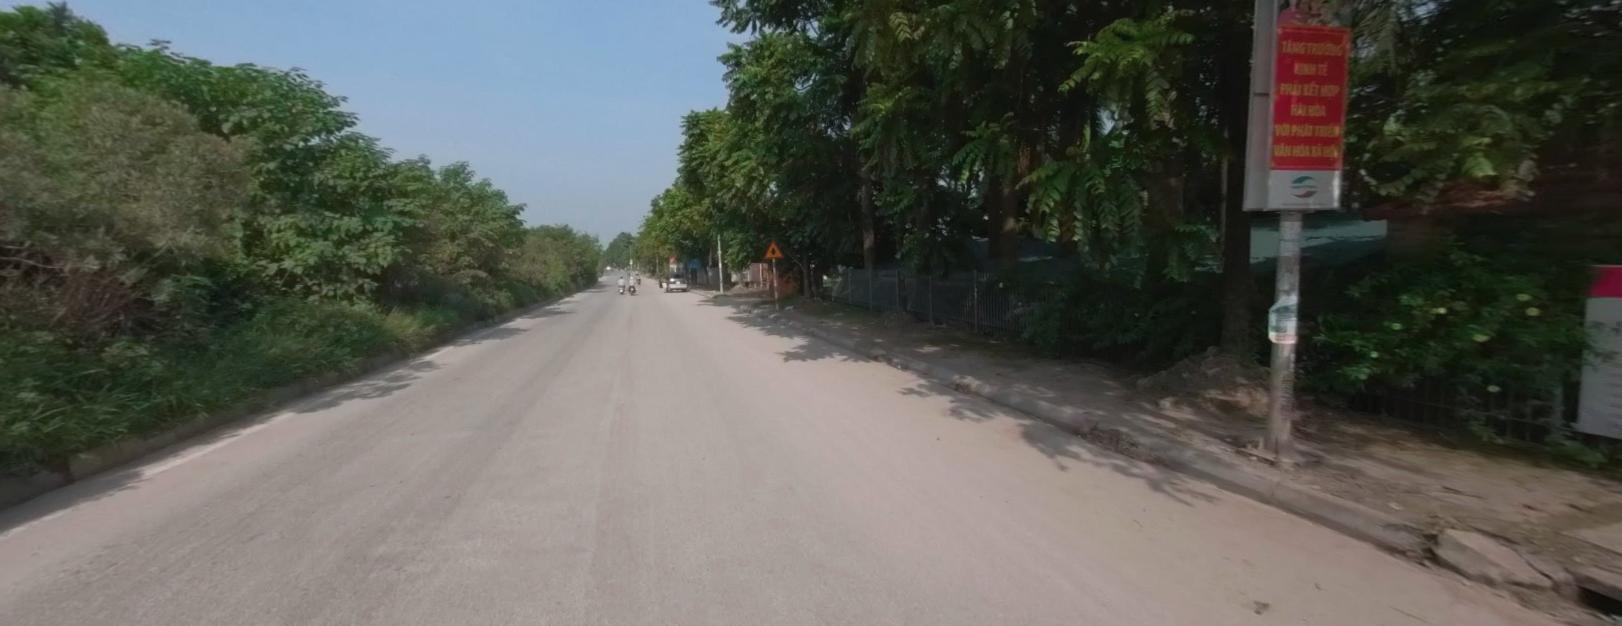Nguy hiem: (764, 240, 784, 257)
